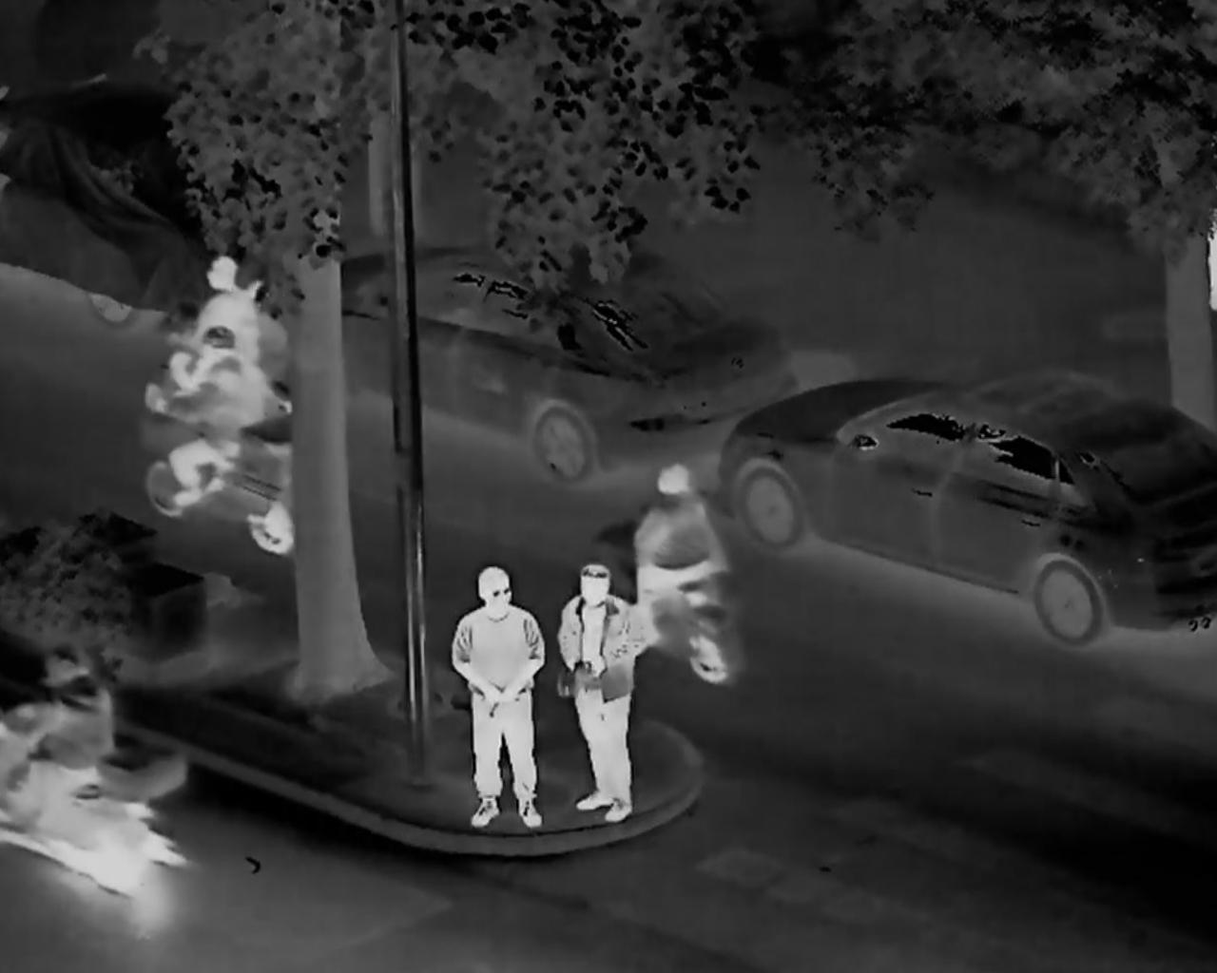person: (435, 562, 547, 852), (558, 553, 658, 837), (28, 631, 145, 821), (171, 340, 271, 532), (189, 251, 281, 459), (649, 452, 723, 622)
